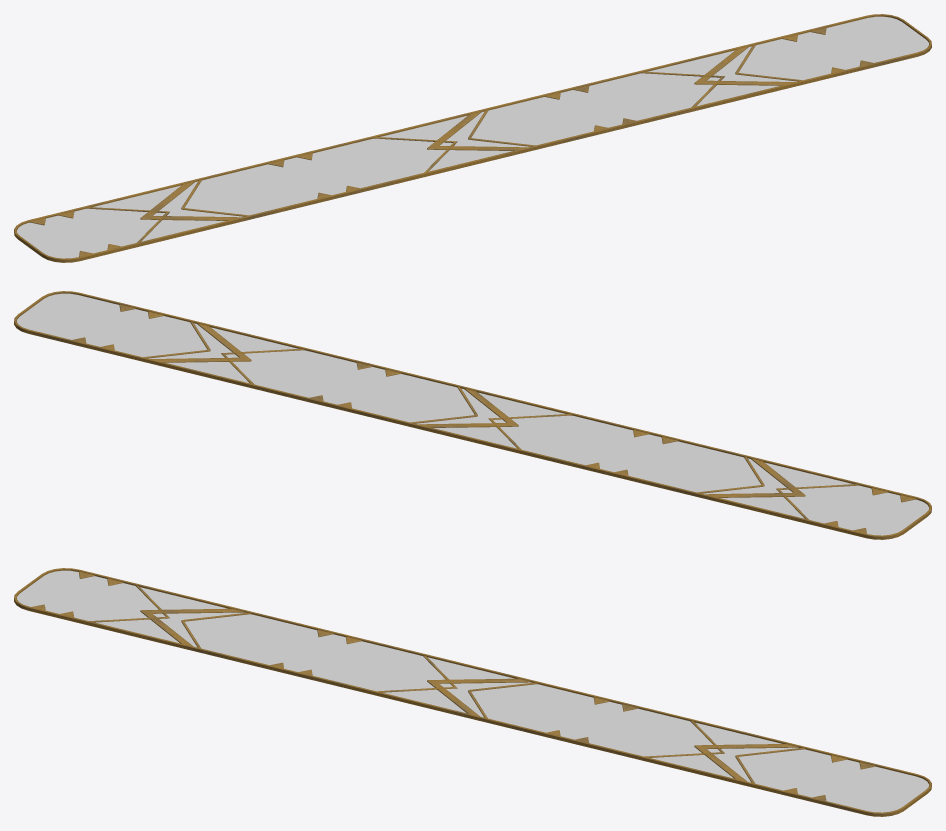
3 views of the same model, one above another, from view 1: azimuth 30°, elevation 25°; view 2: azimuth 150°, elevation 25°; view 3: azimuth 330°, elevation 25° (orthographic).
Visible parts, largest first — view 1: SM_LightBridge_2_LOD0; view 2: SM_LightBridge_2_LOD0; view 3: SM_LightBridge_2_LOD0.
Part boxes in pixels (x1=…): SM_LightBridge_2_LOD0: x1=14, y1=14, x2=931, y2=262; SM_LightBridge_2_LOD0: x1=14, y1=291, x2=931, y2=539; SM_LightBridge_2_LOD0: x1=14, y1=568, x2=931, y2=816.
Size of the model in its own units: 47.18 by 0.1843 by 4.77.
2 materials, 1 textured.
